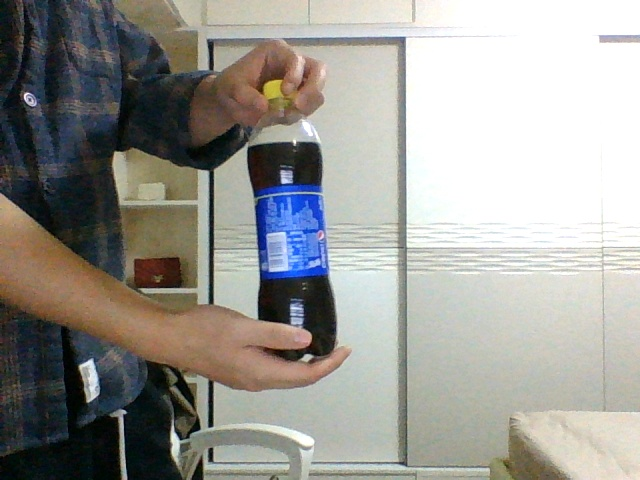Cola: (246, 81, 338, 357)
